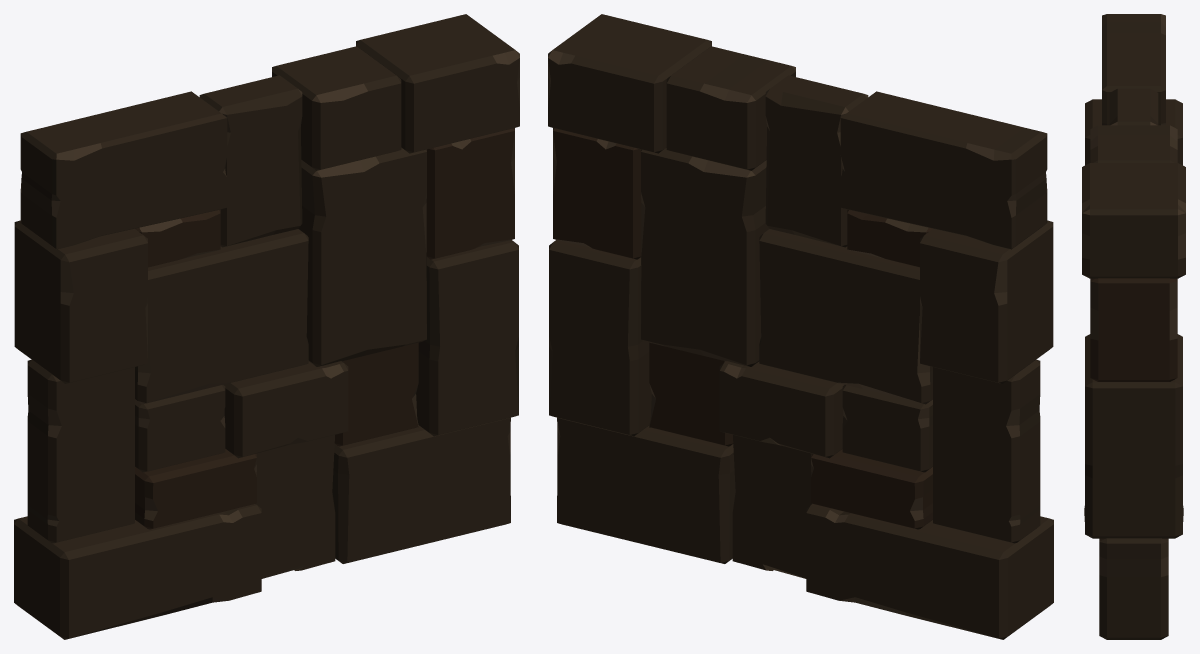
Rendered from wall.obj.
3 views of the same model, side by side, from view 1: azimuth 30°, elevation 25°; view 2: azimuth 150°, elevation 25°; view 3: azimuth 270°, elevation 25° (orthographic). The views are drawn at different scales.
Parts seen in each view (by area): view 1: Wall_Modular_Cube.005; view 2: Wall_Modular_Cube.005; view 3: Wall_Modular_Cube.005.
Boxes of the visible parts, x1=… form: Wall_Modular_Cube.005: x1=14, y1=14, x2=519, y2=639; Wall_Modular_Cube.005: x1=548, y1=14, x2=1053, y2=639; Wall_Modular_Cube.005: x1=1082, y1=14, x2=1185, y2=639.
Bounding box in the file's own units: 2 × 2.01 × 0.4381.
